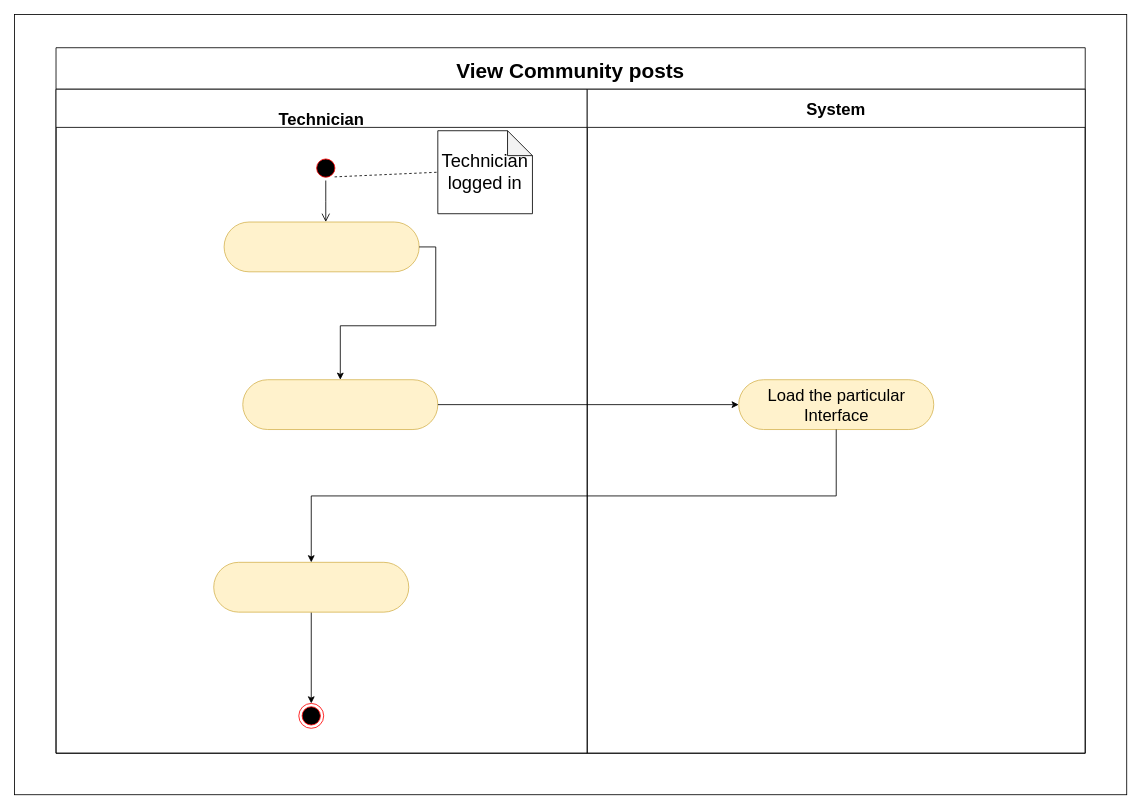
The diagram is 1141 pixels wide and 809 high, and some of its shapes have lost their labels. Each missing label, with the centre of its shape:
"Navigate to community section" goes at (x=321, y=246).
"select item Type" goes at (x=340, y=404).
"View community" goes at (x=311, y=586).
